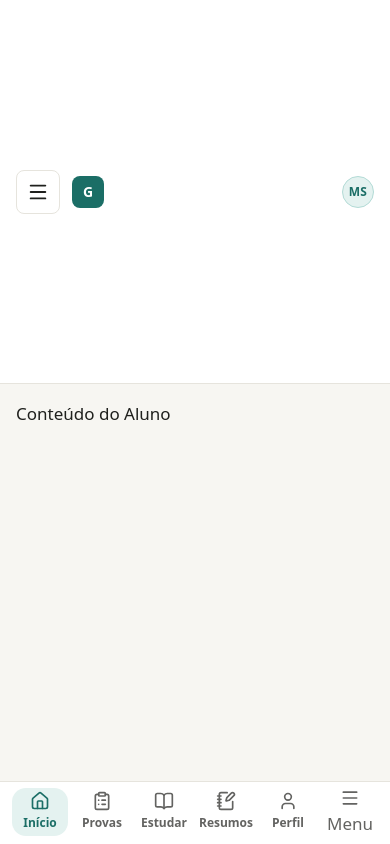
Test case: AppShell - Mobile First › abre e fecha o menu mobile ao clicar nos controles correspondentes
// Clica para abrir o menu
Click the button named "abrir menu de navegação". click: (38, 192)
box: [16, 170, 60, 214]
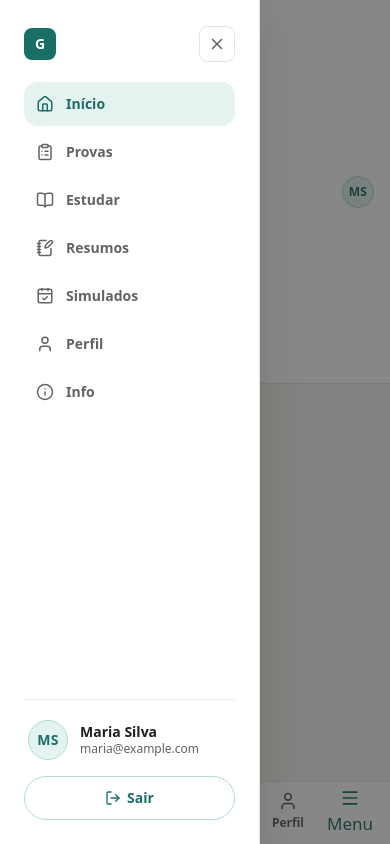
Expected: the element with class "app-shell" has class "app-shell--drawer-open"
// Clica no botão X para fechar
Click the button named "Fechar menu". click: (217, 44)
box: [199, 26, 235, 62]
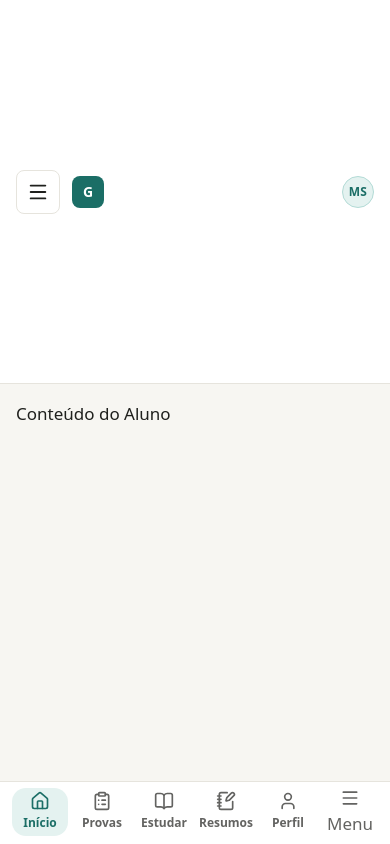
Expected: the element with class "app-shell" does not have class "app-shell--drawer-open"
